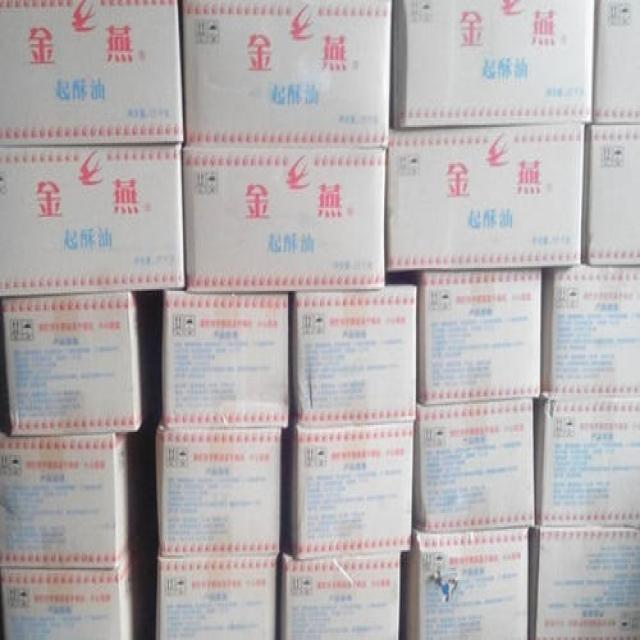Carton: (184, 0, 584, 270), (4, 298, 133, 568), (415, 400, 530, 638), (283, 421, 410, 635), (186, 150, 385, 282), (390, 0, 594, 127), (154, 430, 278, 638), (160, 294, 285, 425), (296, 289, 411, 418), (424, 272, 538, 402), (543, 402, 637, 525), (539, 532, 639, 638), (553, 268, 636, 391)
